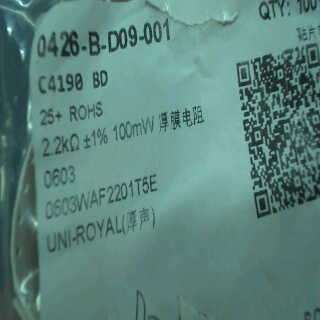2.2kR: (37, 131, 82, 158)
